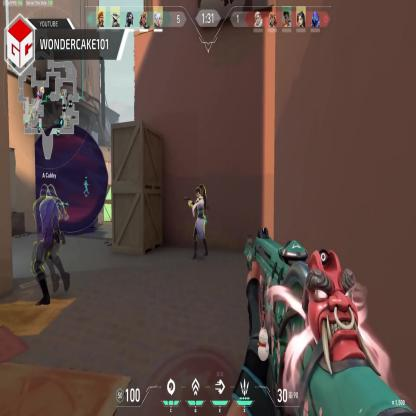enemy: (30, 177, 71, 296), (190, 183, 209, 258)
enemy_head: (44, 184, 54, 198), (196, 187, 200, 198)
